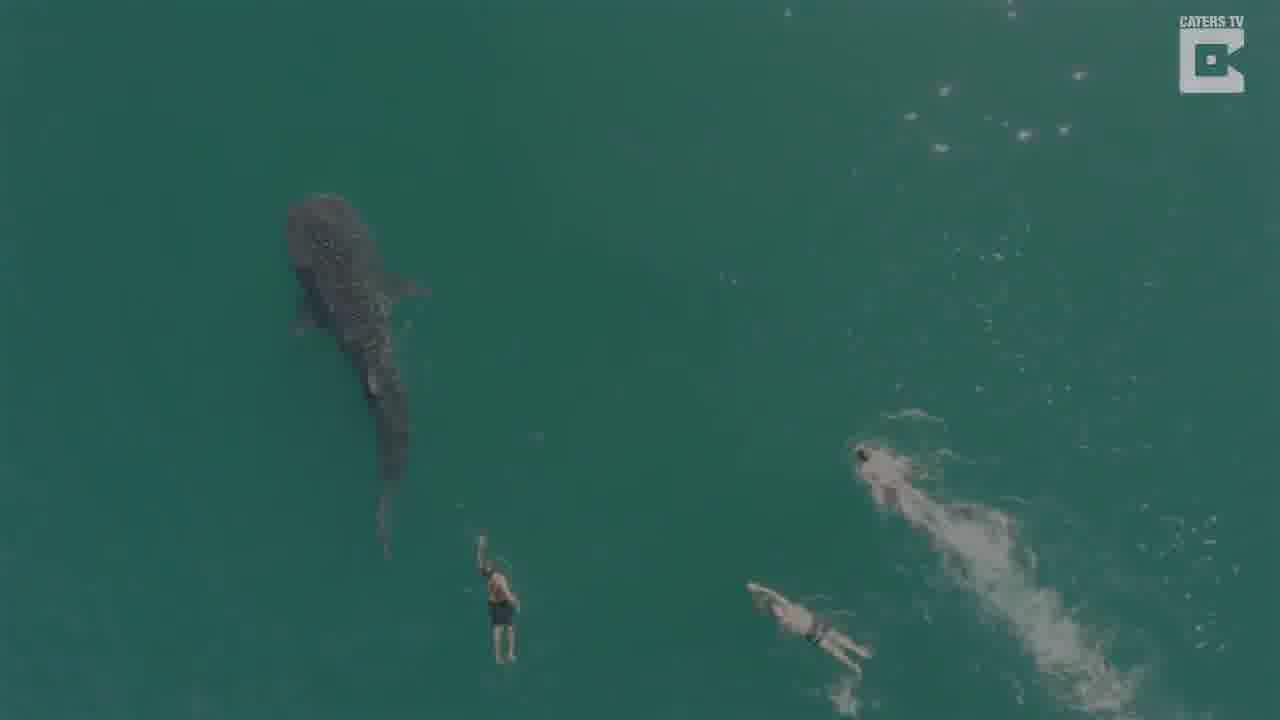swimmer: (742, 587, 876, 670), (467, 526, 535, 660)
